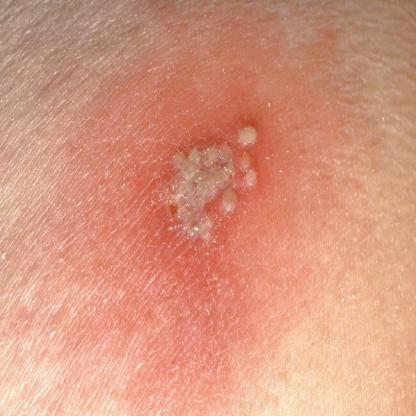Fire ant: (152, 108, 271, 258)
